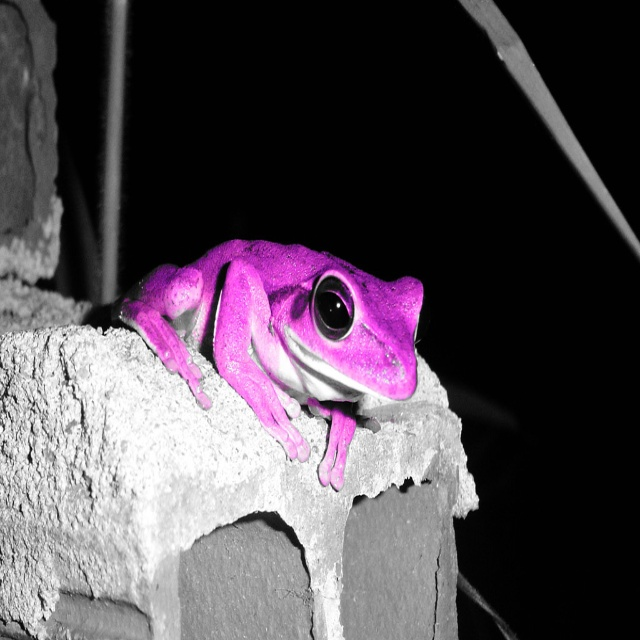Frog: (117, 239, 423, 489)
